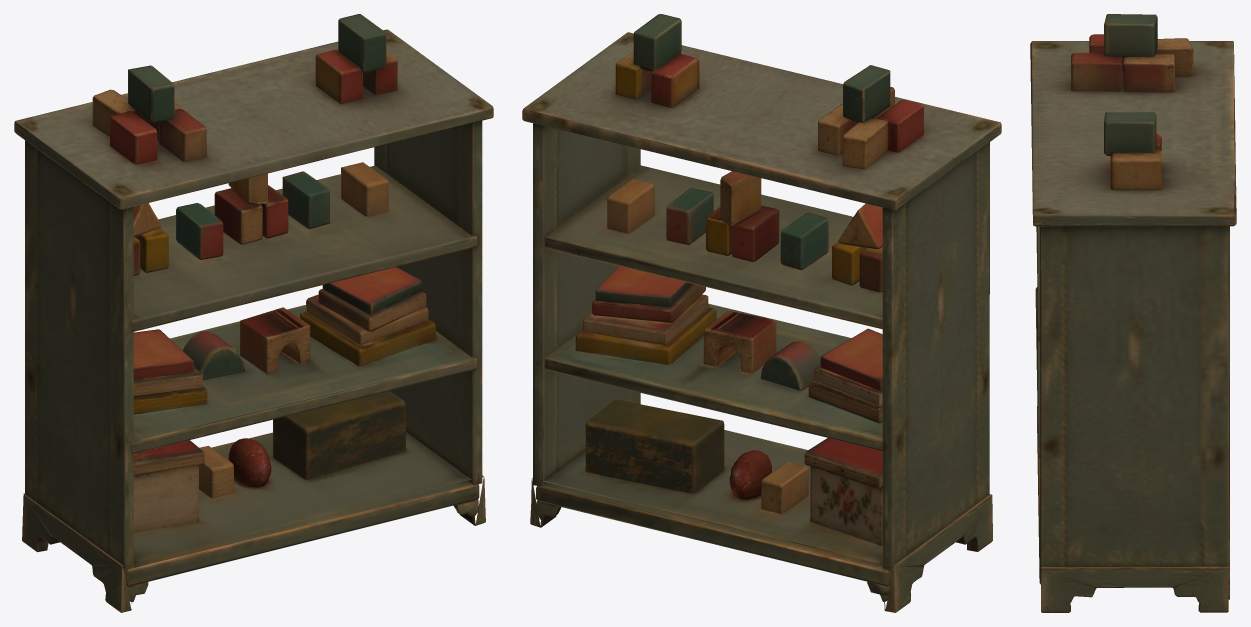
The model's file is furniture-toy-shelf.glb.
3 views of the same model, side by side, from view 1: azimuth 30°, elevation 25°; view 2: azimuth 150°, elevation 25°; view 3: azimuth 270°, elevation 25° (orthographic). The views are drawn at different scales.
Parts seen in each view (by area): view 1: tripo_node_dcd13c22-06ee-440d-9236-dff5320bd822; view 2: tripo_node_dcd13c22-06ee-440d-9236-dff5320bd822; view 3: tripo_node_dcd13c22-06ee-440d-9236-dff5320bd822.
Part boxes in pixels (bbox=[...]): tripo_node_dcd13c22-06ee-440d-9236-dff5320bd822: bbox=[14, 14, 493, 612]; tripo_node_dcd13c22-06ee-440d-9236-dff5320bd822: bbox=[522, 14, 1001, 612]; tripo_node_dcd13c22-06ee-440d-9236-dff5320bd822: bbox=[1030, 14, 1236, 612].
Size of the model in its own units: 1.3 by 1.6 by 0.65.
Materials: 1 (1 with a texture image).
